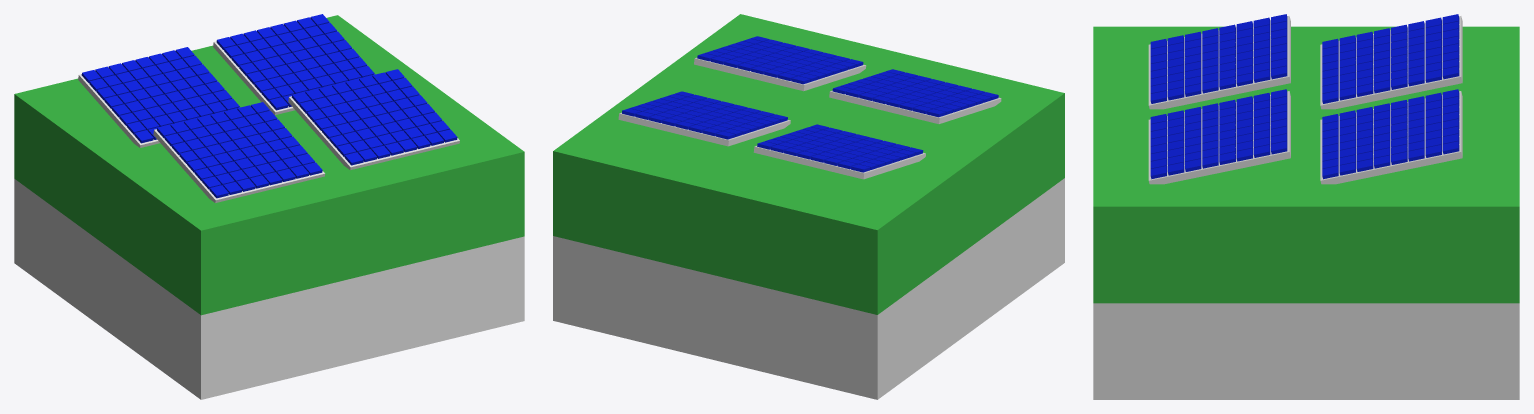
File: solartile.fbx
3 views of the same model, side by side, from view 1: azimuth 30°, elevation 25°; view 2: azimuth 150°, elevation 25°; view 3: azimuth 270°, elevation 25° (orthographic). The views are drawn at different scales.
Parts seen in each view (by area): view 1: Cube, Cube.004, Cube.002, Cube.006, Cube.008, Cube.001, Cube.003, Cube.007, Cube.005; view 2: Cube, Cube.002, Cube.004, Cube.008, Cube.006, Cube.001, Cube.003, Cube.005, Cube.007; view 3: Cube, Cube.008, Cube.006, Cube.004, Cube.002, Cube.007, Cube.005, Cube.001, Cube.003.
Boxes of the visible parts, bbox=[...] form: Cube: bbox=[14, 15, 524, 399]; Cube.004: bbox=[291, 69, 457, 165]; Cube.002: bbox=[157, 102, 322, 198]; Cube.006: bbox=[216, 14, 375, 110]; Cube.008: bbox=[81, 47, 239, 143]; Cube.001: bbox=[153, 129, 325, 202]; Cube.003: bbox=[288, 77, 459, 170]; Cube.007: bbox=[78, 74, 160, 147]; Cube.005: bbox=[213, 41, 294, 114]; Cube: bbox=[553, 14, 1064, 399]; Cube.002: bbox=[832, 69, 998, 117]; Cube.004: bbox=[697, 36, 863, 84]; Cube.008: bbox=[757, 124, 923, 172]; Cube.006: bbox=[622, 91, 787, 139]; Cube.001: bbox=[829, 90, 1001, 123]; Cube.003: bbox=[694, 57, 866, 91]; Cube.005: bbox=[618, 112, 790, 146]; Cube.007: bbox=[753, 146, 925, 179]; Cube: bbox=[1093, 26, 1519, 399]; Cube.008: bbox=[1322, 14, 1459, 103]; Cube.006: bbox=[1322, 89, 1459, 179]; Cube.004: bbox=[1150, 89, 1287, 179]; Cube.002: bbox=[1150, 14, 1287, 103]; Cube.007: bbox=[1320, 16, 1462, 109]; Cube.005: bbox=[1320, 91, 1462, 184]; Cube.001: bbox=[1148, 16, 1290, 109]; Cube.003: bbox=[1148, 91, 1290, 184].
Size of the model in its own units: 200 by 118 by 200.
